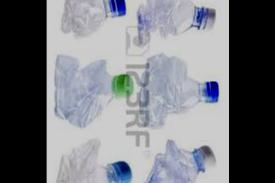Plastic: (131, 53, 222, 136), (53, 50, 136, 133), (49, 131, 136, 182), (139, 130, 216, 182), (133, 0, 218, 43), (56, 0, 131, 47)
